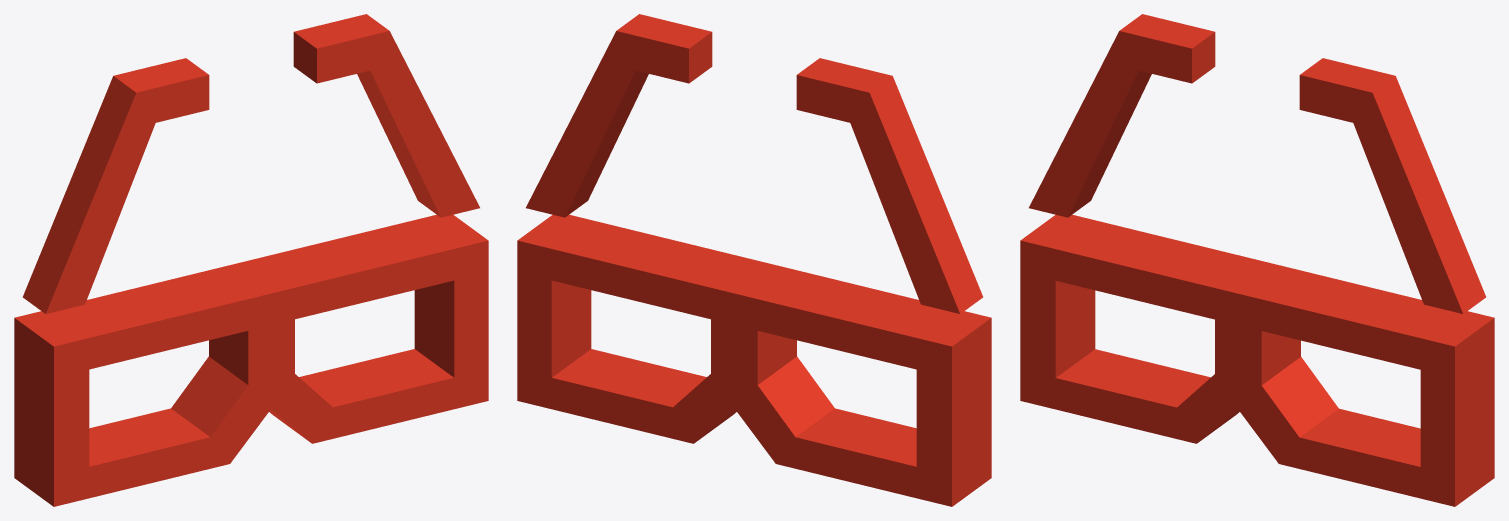
Rendered from Icon_Glasses.fbx.
3 views of the same model, side by side, from view 1: azimuth 30°, elevation 25°; view 2: azimuth 150°, elevation 25°; view 3: azimuth 330°, elevation 25° (orthographic).
Visible parts, largest first — view 1: Icon_Glasses; view 2: Icon_Glasses; view 3: Icon_Glasses.
Part boxes in pixels (box(x1,y1,x2,y2)): Icon_Glasses: box(14, 14, 488, 506); Icon_Glasses: box(517, 14, 991, 506); Icon_Glasses: box(1020, 14, 1494, 506).
Bounding box in the file's own units: 76.73 × 65.13 × 12.06.
